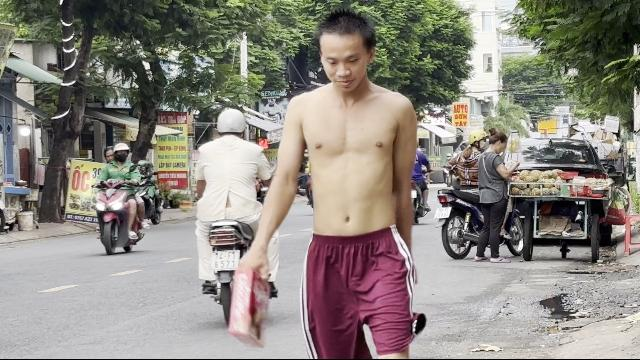helmet: (214, 108, 248, 138), (467, 129, 488, 151), (112, 142, 130, 162)
licenseplate: (212, 250, 240, 270), (435, 207, 451, 218)
motorcyclist: (187, 106, 271, 330), (91, 142, 147, 255)
